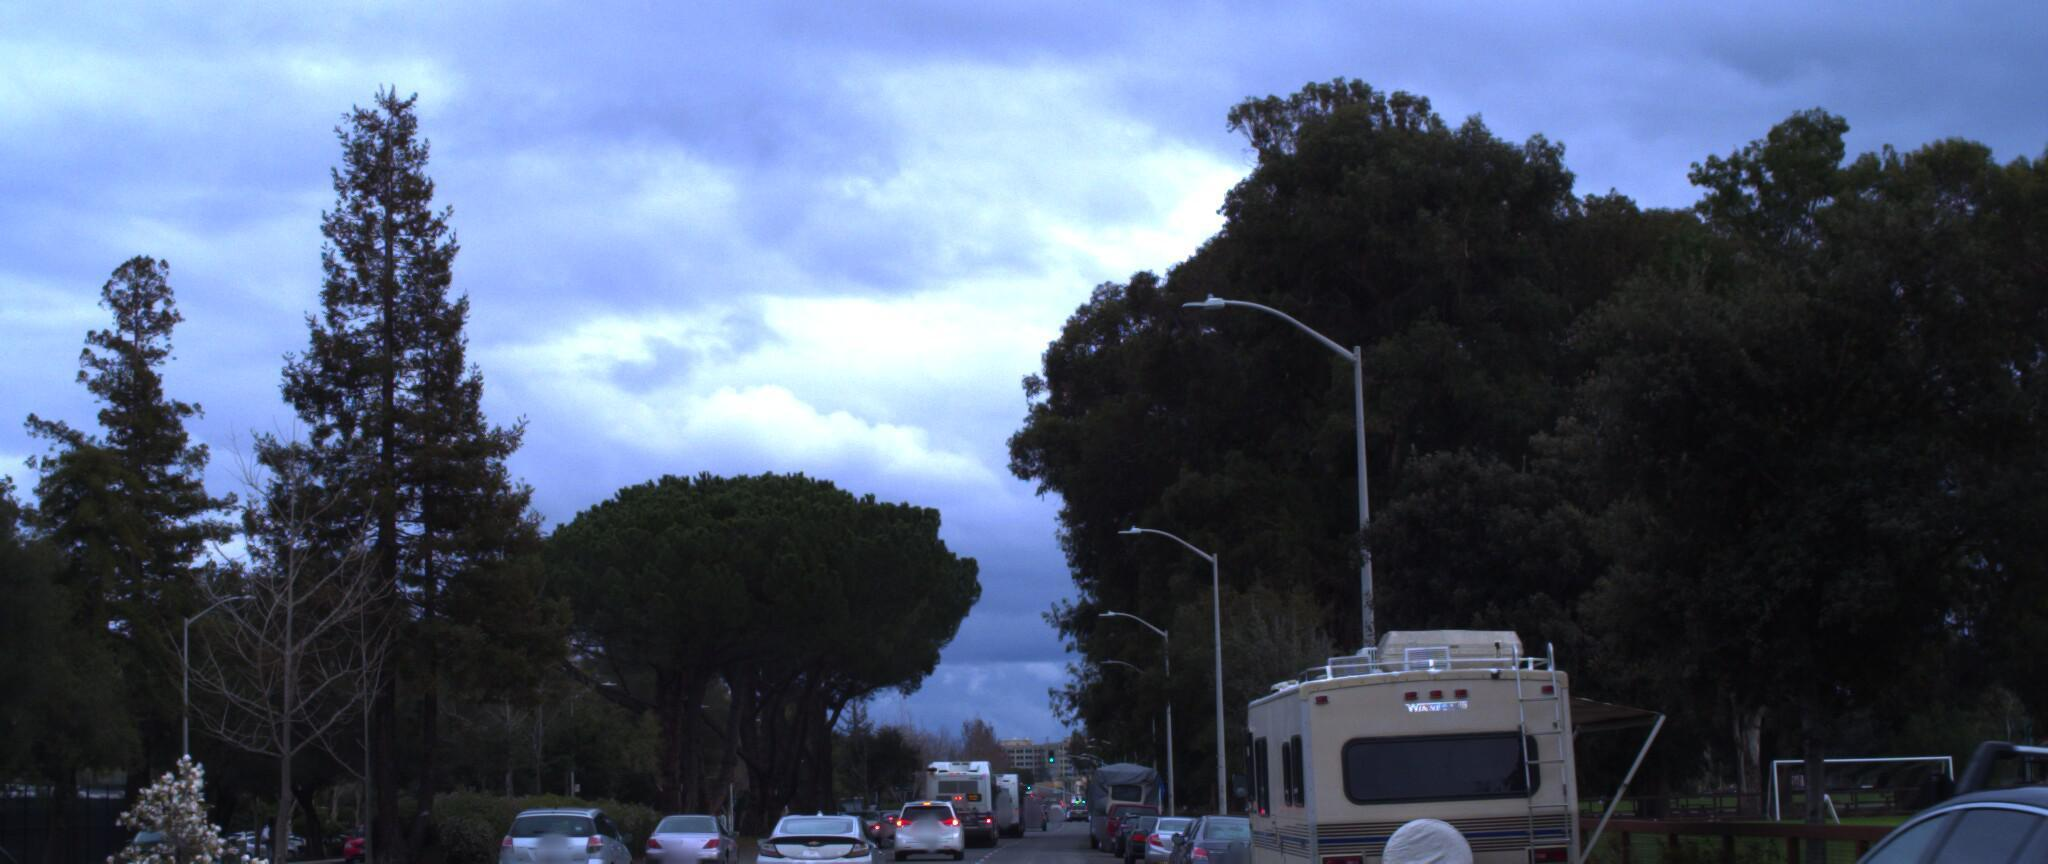car: (1607, 654, 2048, 864), (0, 476, 77, 864), (477, 790, 637, 864), (1168, 795, 1311, 864), (741, 800, 888, 864), (0, 794, 127, 864), (627, 790, 738, 864)
other_vehicle: (1226, 585, 1621, 864)
